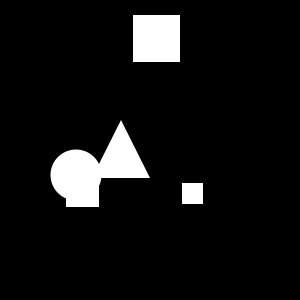circle: (133, 15, 180, 62), (66, 174, 99, 207), (182, 183, 203, 204)
rectangle: (50, 150, 102, 200)
triangle: (92, 120, 150, 178)
